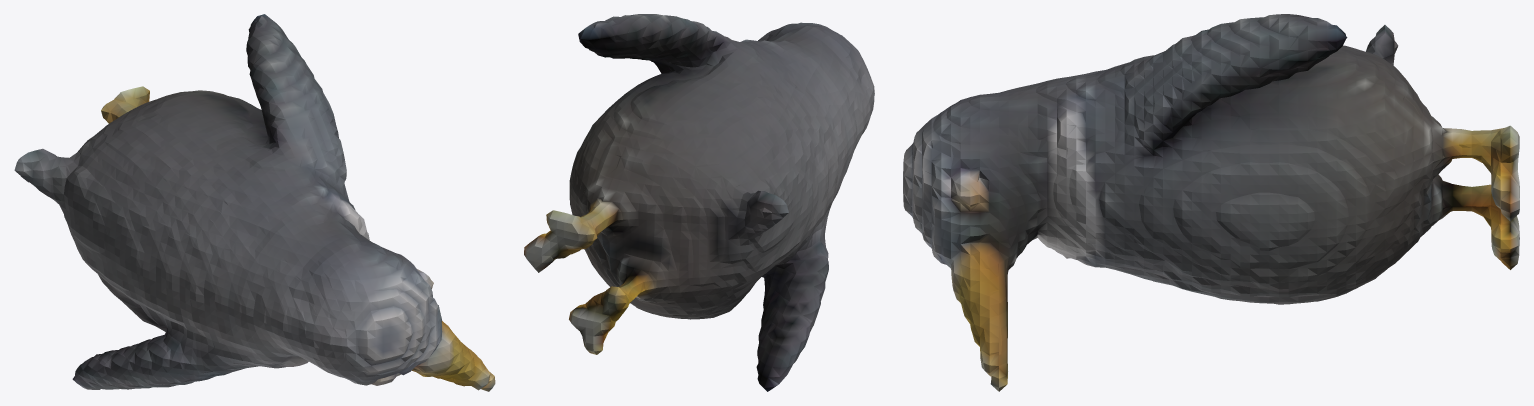
3 views of the same model, side by side, from view 1: azimuth 30°, elevation 25°; view 2: azimuth 150°, elevation 25°; view 3: azimuth 270°, elevation 25° (orthographic). The views are drawn at different scales.
Parts seen in each view (by area): view 1: world; view 2: world; view 3: world.
Part boxes in pixels (x1,y1,x2,y2): world: (14,14,495,391); world: (524,14,874,391); world: (903,14,1519,391).
Bounding box in the file's own units: 0.5713 × 0.5797 × 0.8763.
